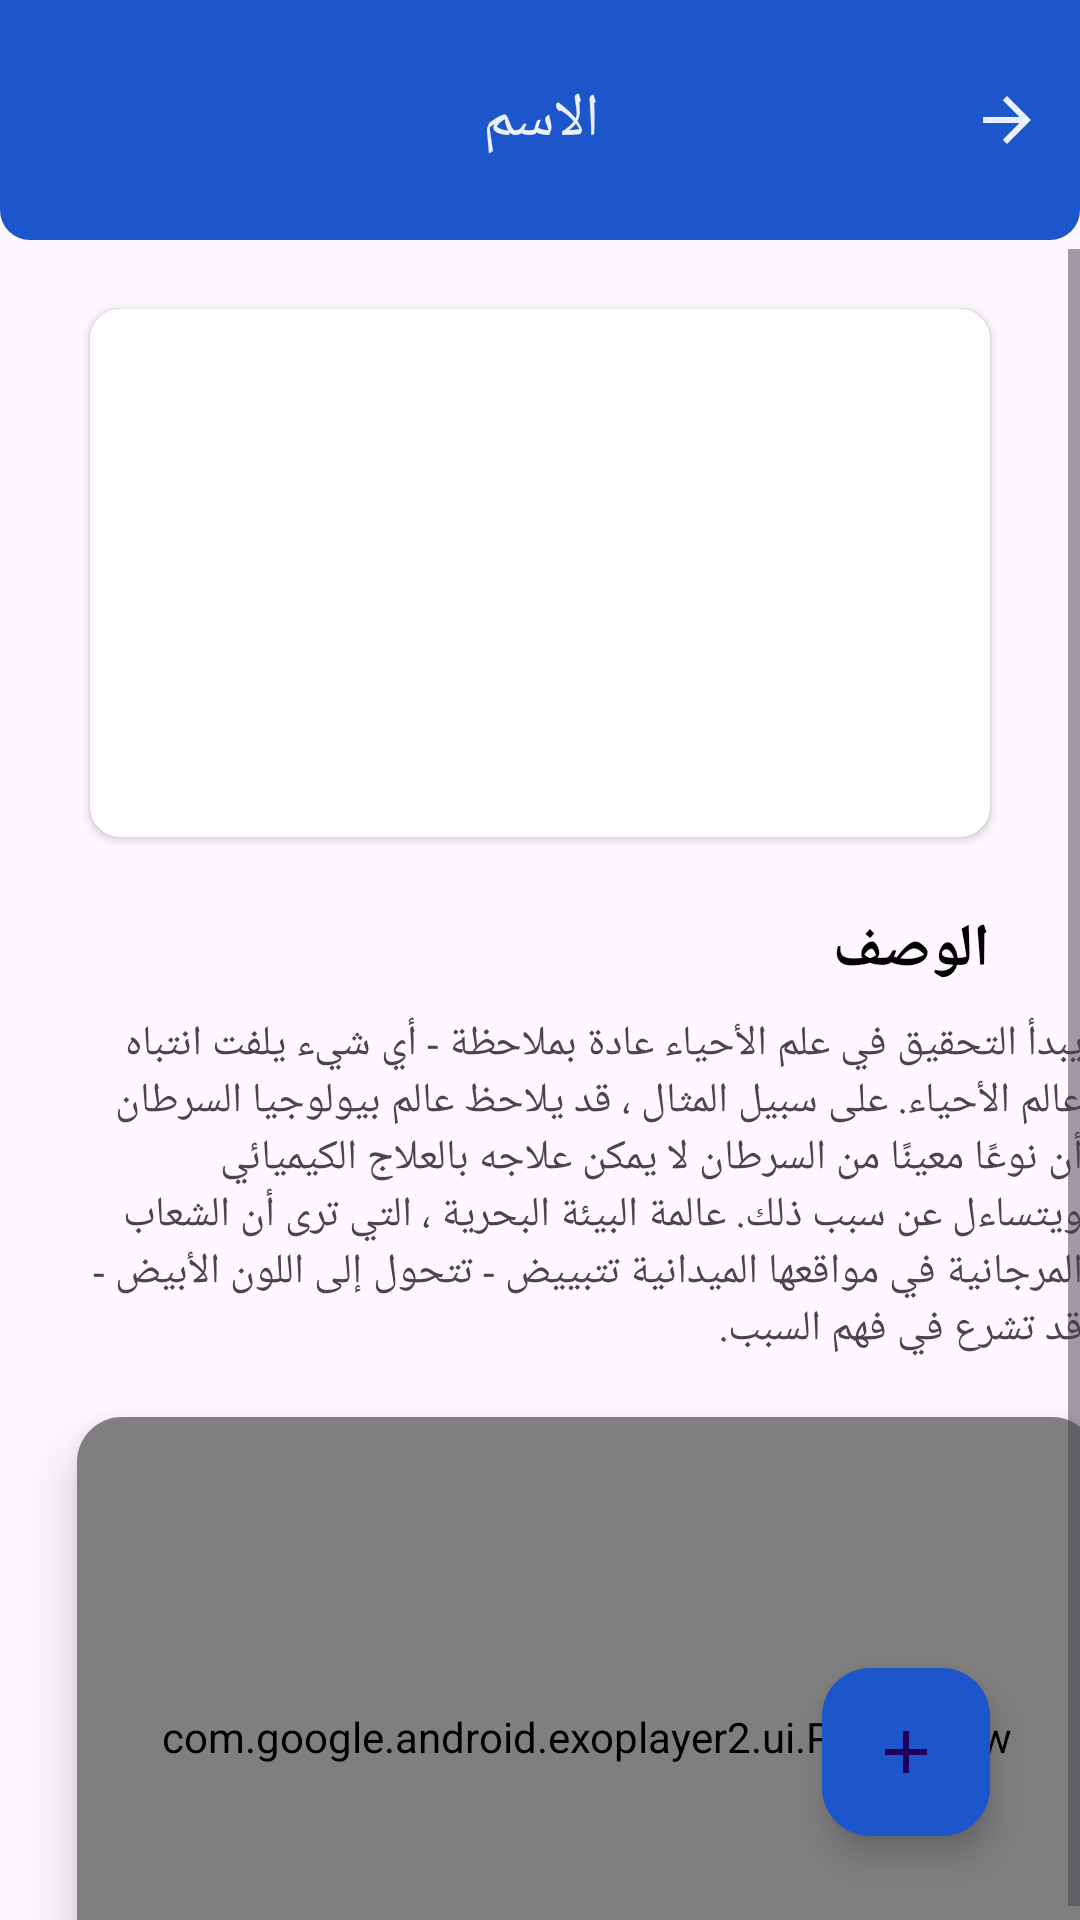

Named icons in this screenshot (1080px×1920px) and their centers, point (x, y):
add: point (906, 1752)
